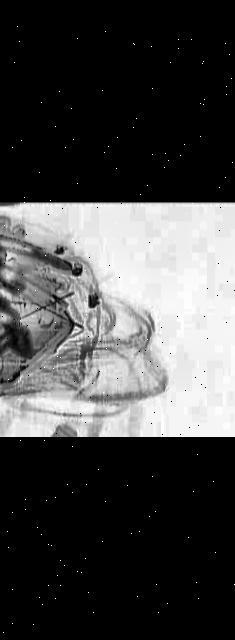Pliers: (0, 230, 88, 275)
